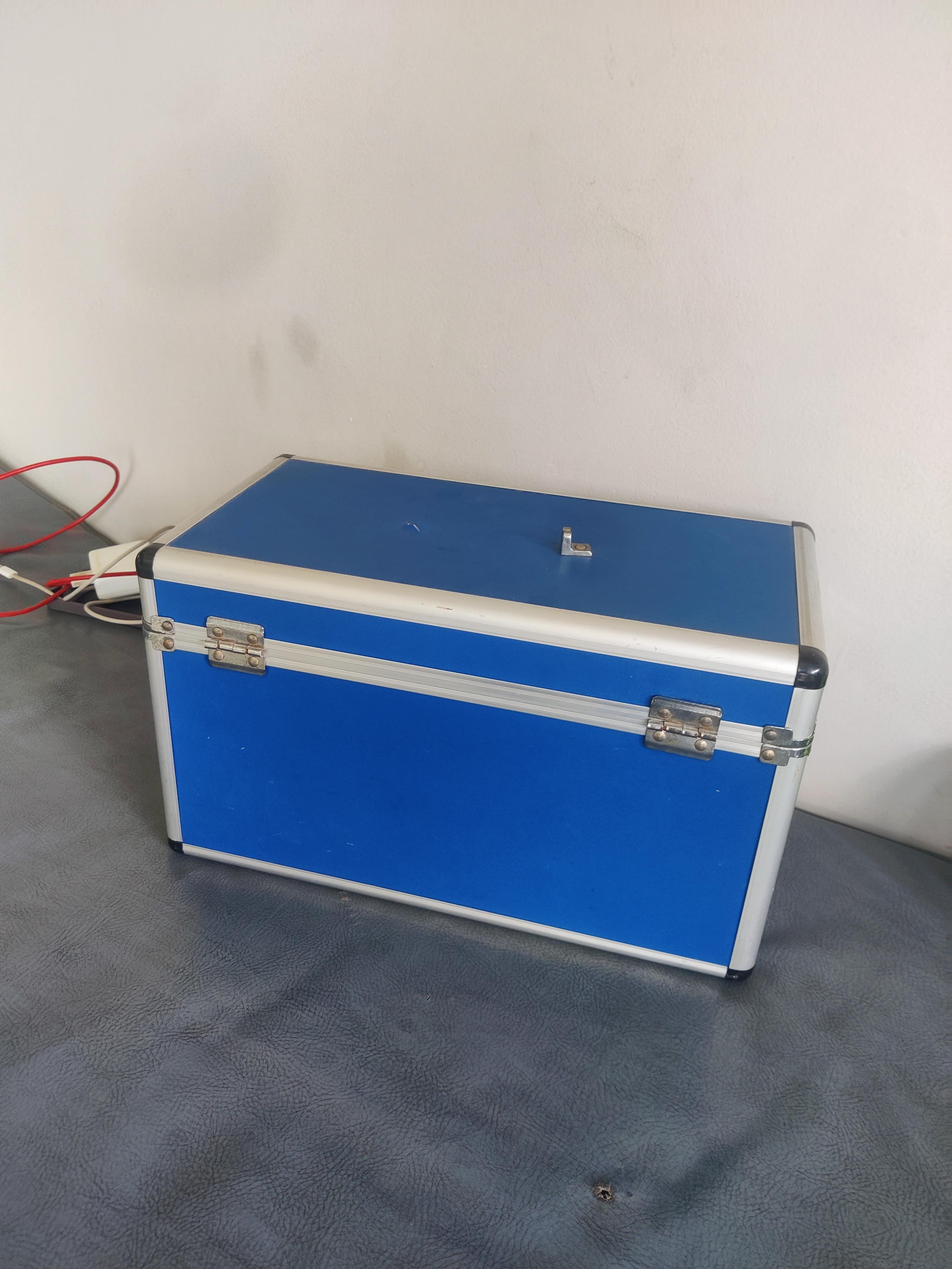FirstAidBox: (116, 420, 847, 1020)
